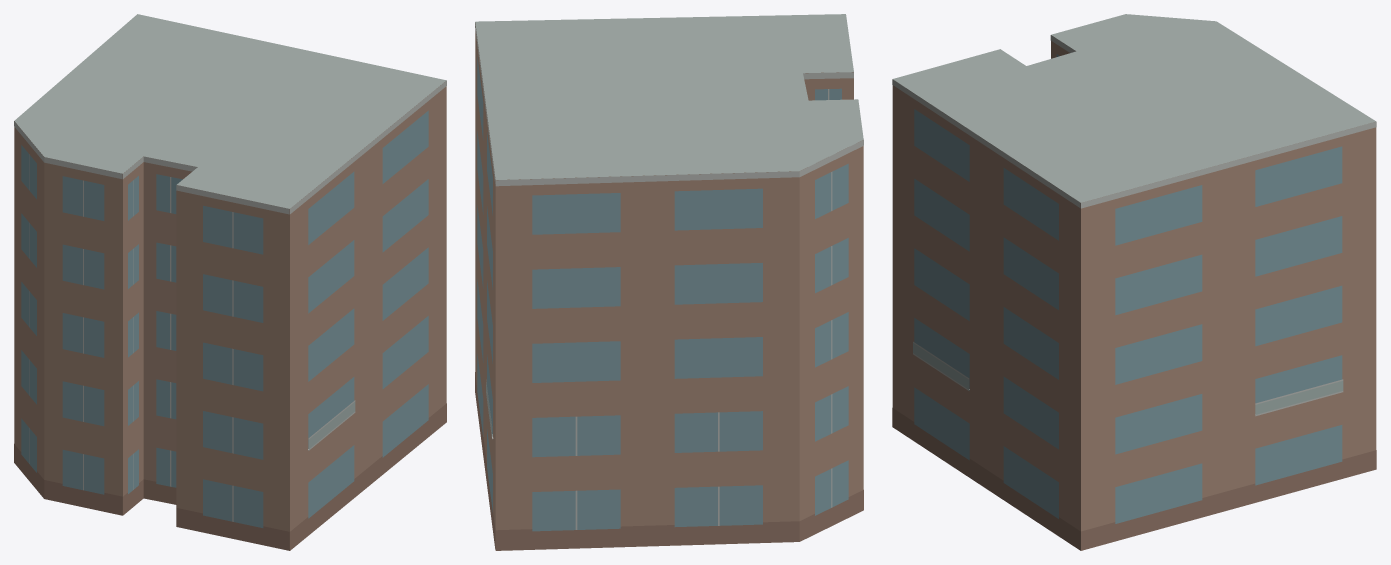
File: survey-upis-32683051.glb
3 renders of one model, left to right at view 1: azimuth 30°, elevation 25°; view 2: azimuth 150°, elevation 25°; view 3: azimuth 270°, elevation 25°, orthographic. The views are drawn at different scales.
Parts seen in each view (by area): view 1: survey-upis-32683051.tmp; view 2: survey-upis-32683051.tmp; view 3: survey-upis-32683051.tmp.
Part boxes in pixels (box(x1,y1,x2,y2)): survey-upis-32683051.tmp: box(14, 14, 446, 550); survey-upis-32683051.tmp: box(475, 14, 863, 550); survey-upis-32683051.tmp: box(892, 14, 1376, 550).
Size of the model in its own units: 17.24 by 14.8 by 18.66.
